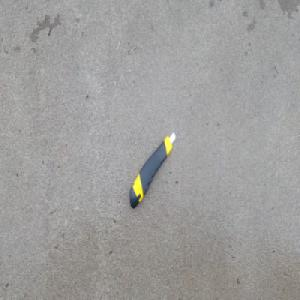Cutter: (128, 130, 176, 209)
